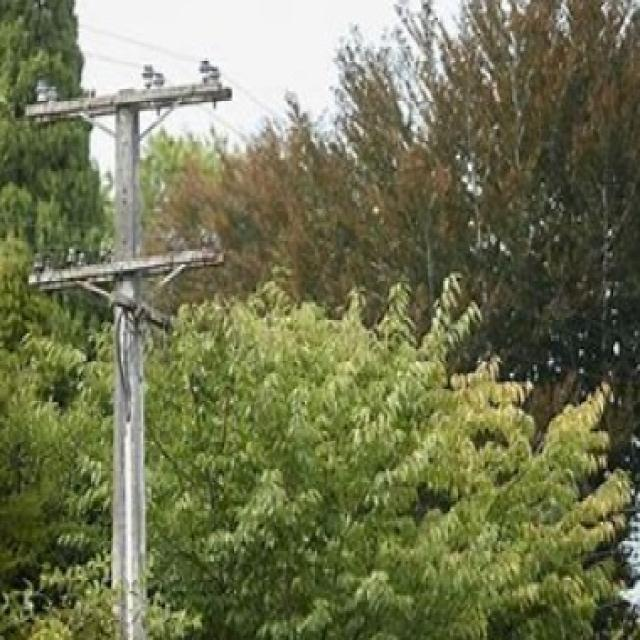utility poles: (19, 48, 226, 640)
